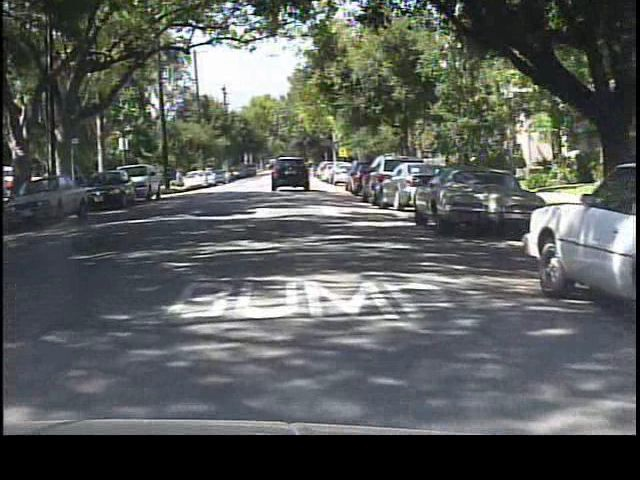person: (174, 166, 188, 194)
